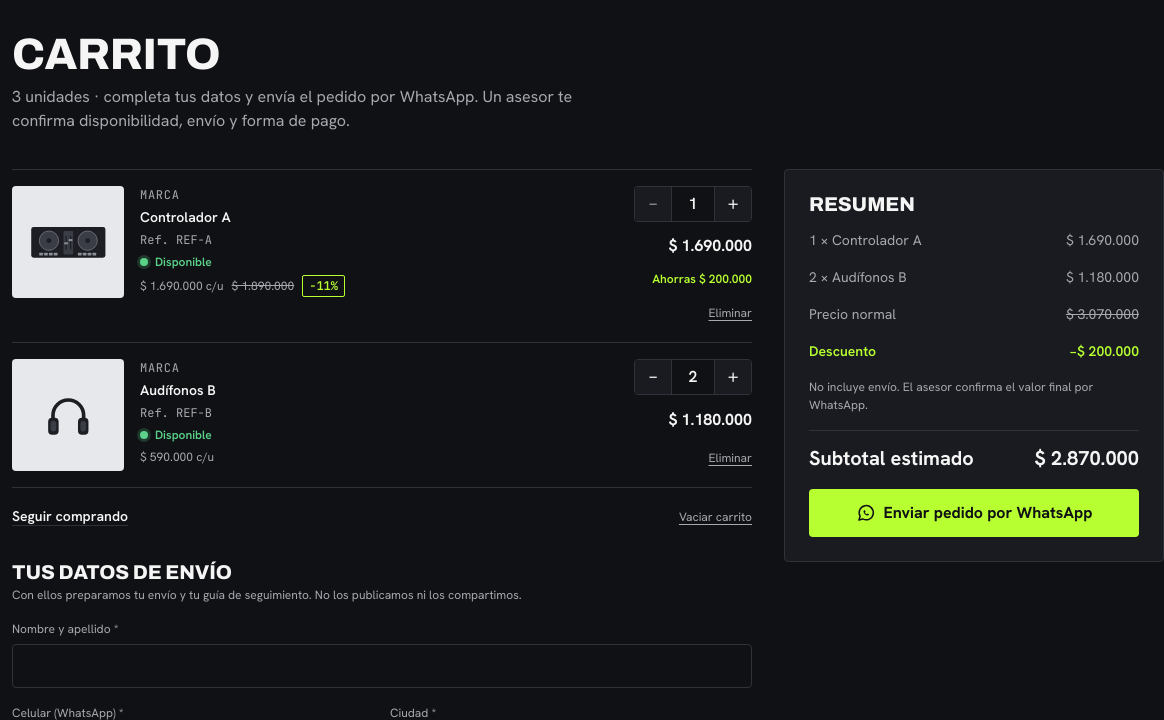
CartView › calcula el subtotal, cambia cantidades, elimina y deshace
Expected: the text with test id "subtotal" reads "$ 2.870.000", [1035, 445, 1139, 471]
Click the button named "Aumentar cantidad": [733, 377] box [715, 360, 751, 394]
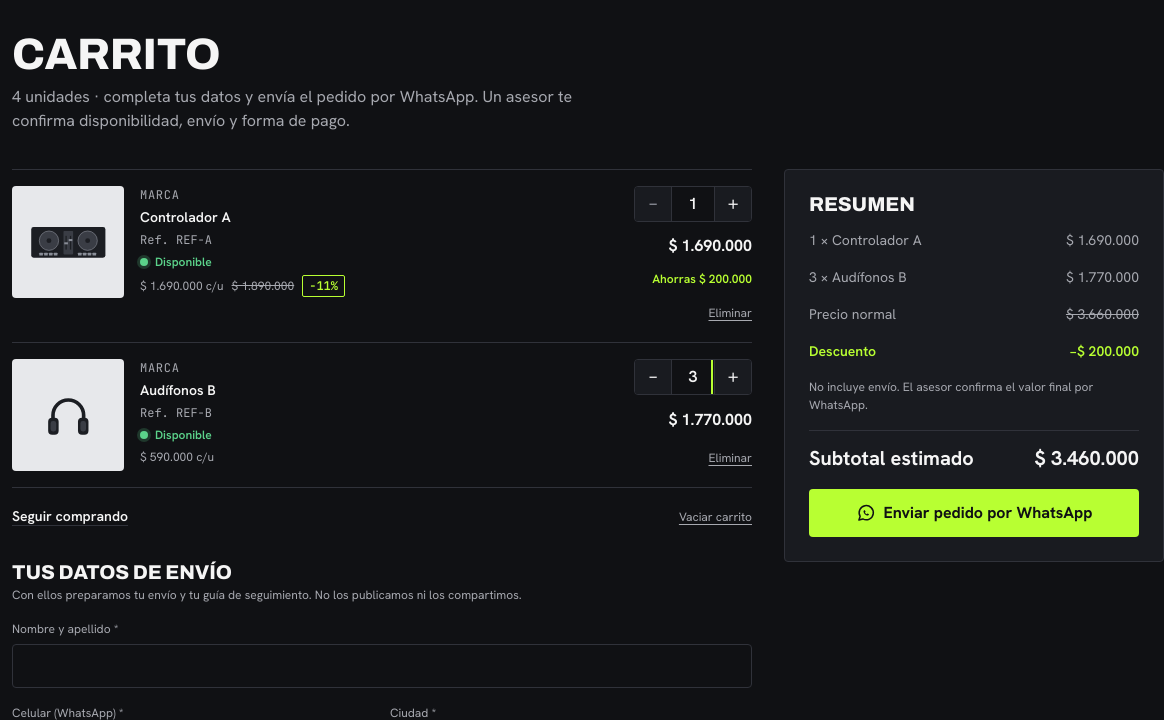
Now the text with test id "subtotal" reads "$ 3.460.000", box [1035, 445, 1139, 471]
Click the button with aria-label "Eliminar Audífonos B": [730, 458] box [708, 445, 752, 471]
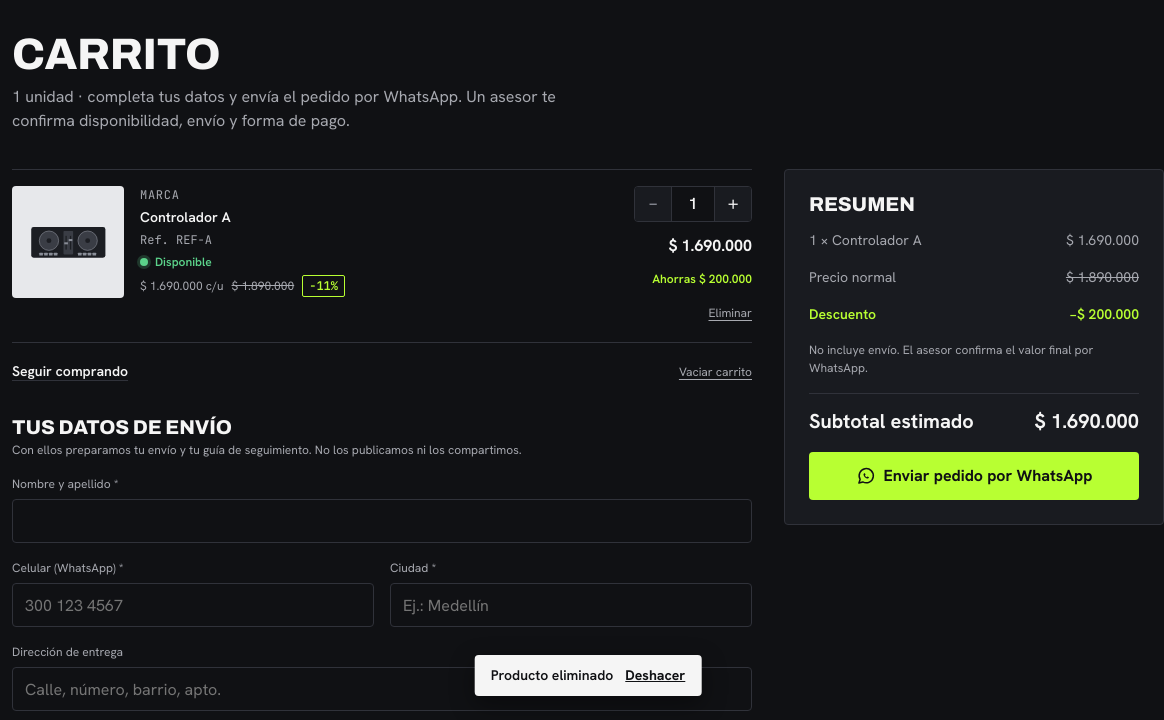
Now the text with test id "subtotal" reads "$ 1.690.000", box [1035, 408, 1139, 434]
Click the button "Deshacer": [655, 676] box [625, 665, 685, 686]
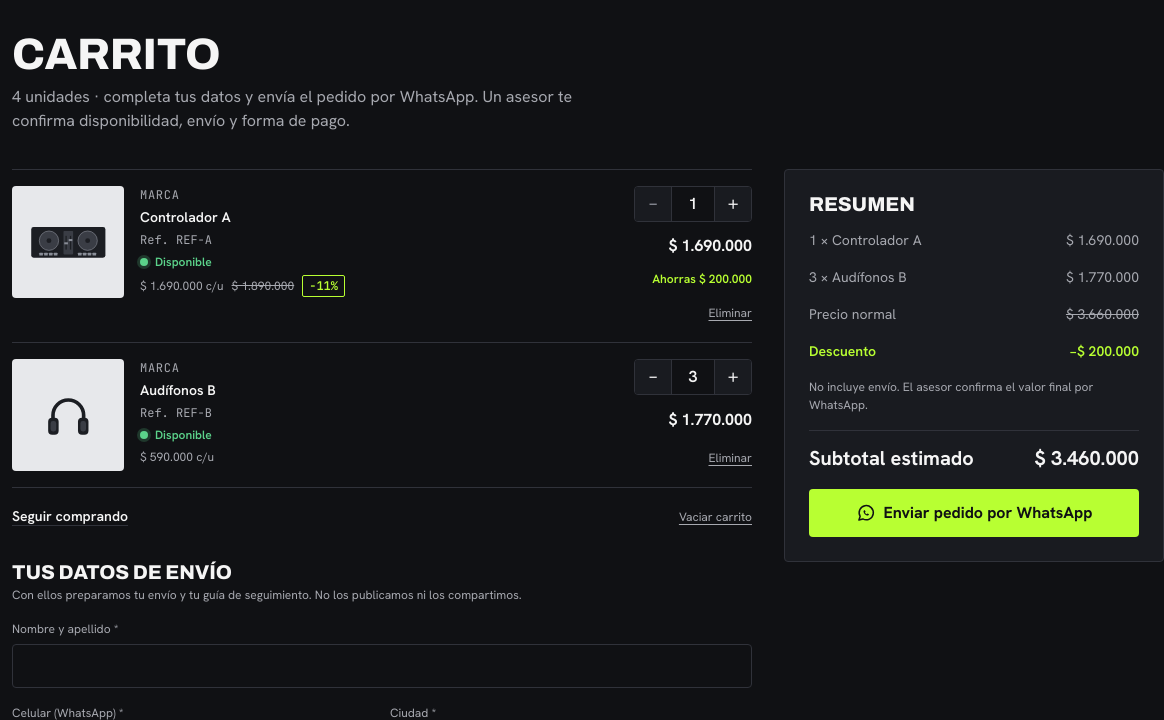
Now the text with test id "subtotal" reads "$ 3.460.000", box [1035, 445, 1139, 471]
Click the button "Vaciar carrito": [715, 517] box [679, 504, 752, 530]
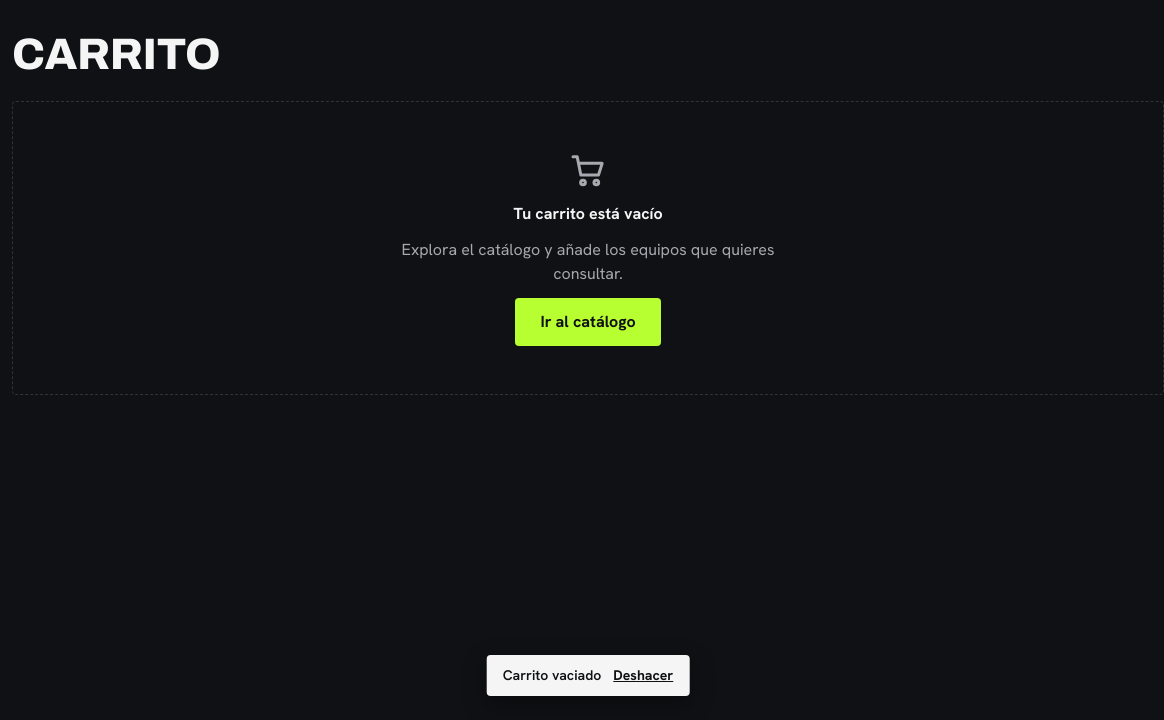
Now the text "Tu carrito está vacío" is shown, box [513, 202, 663, 226]
